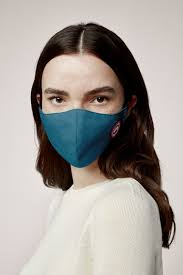FaceMask: (39, 108, 126, 168)
